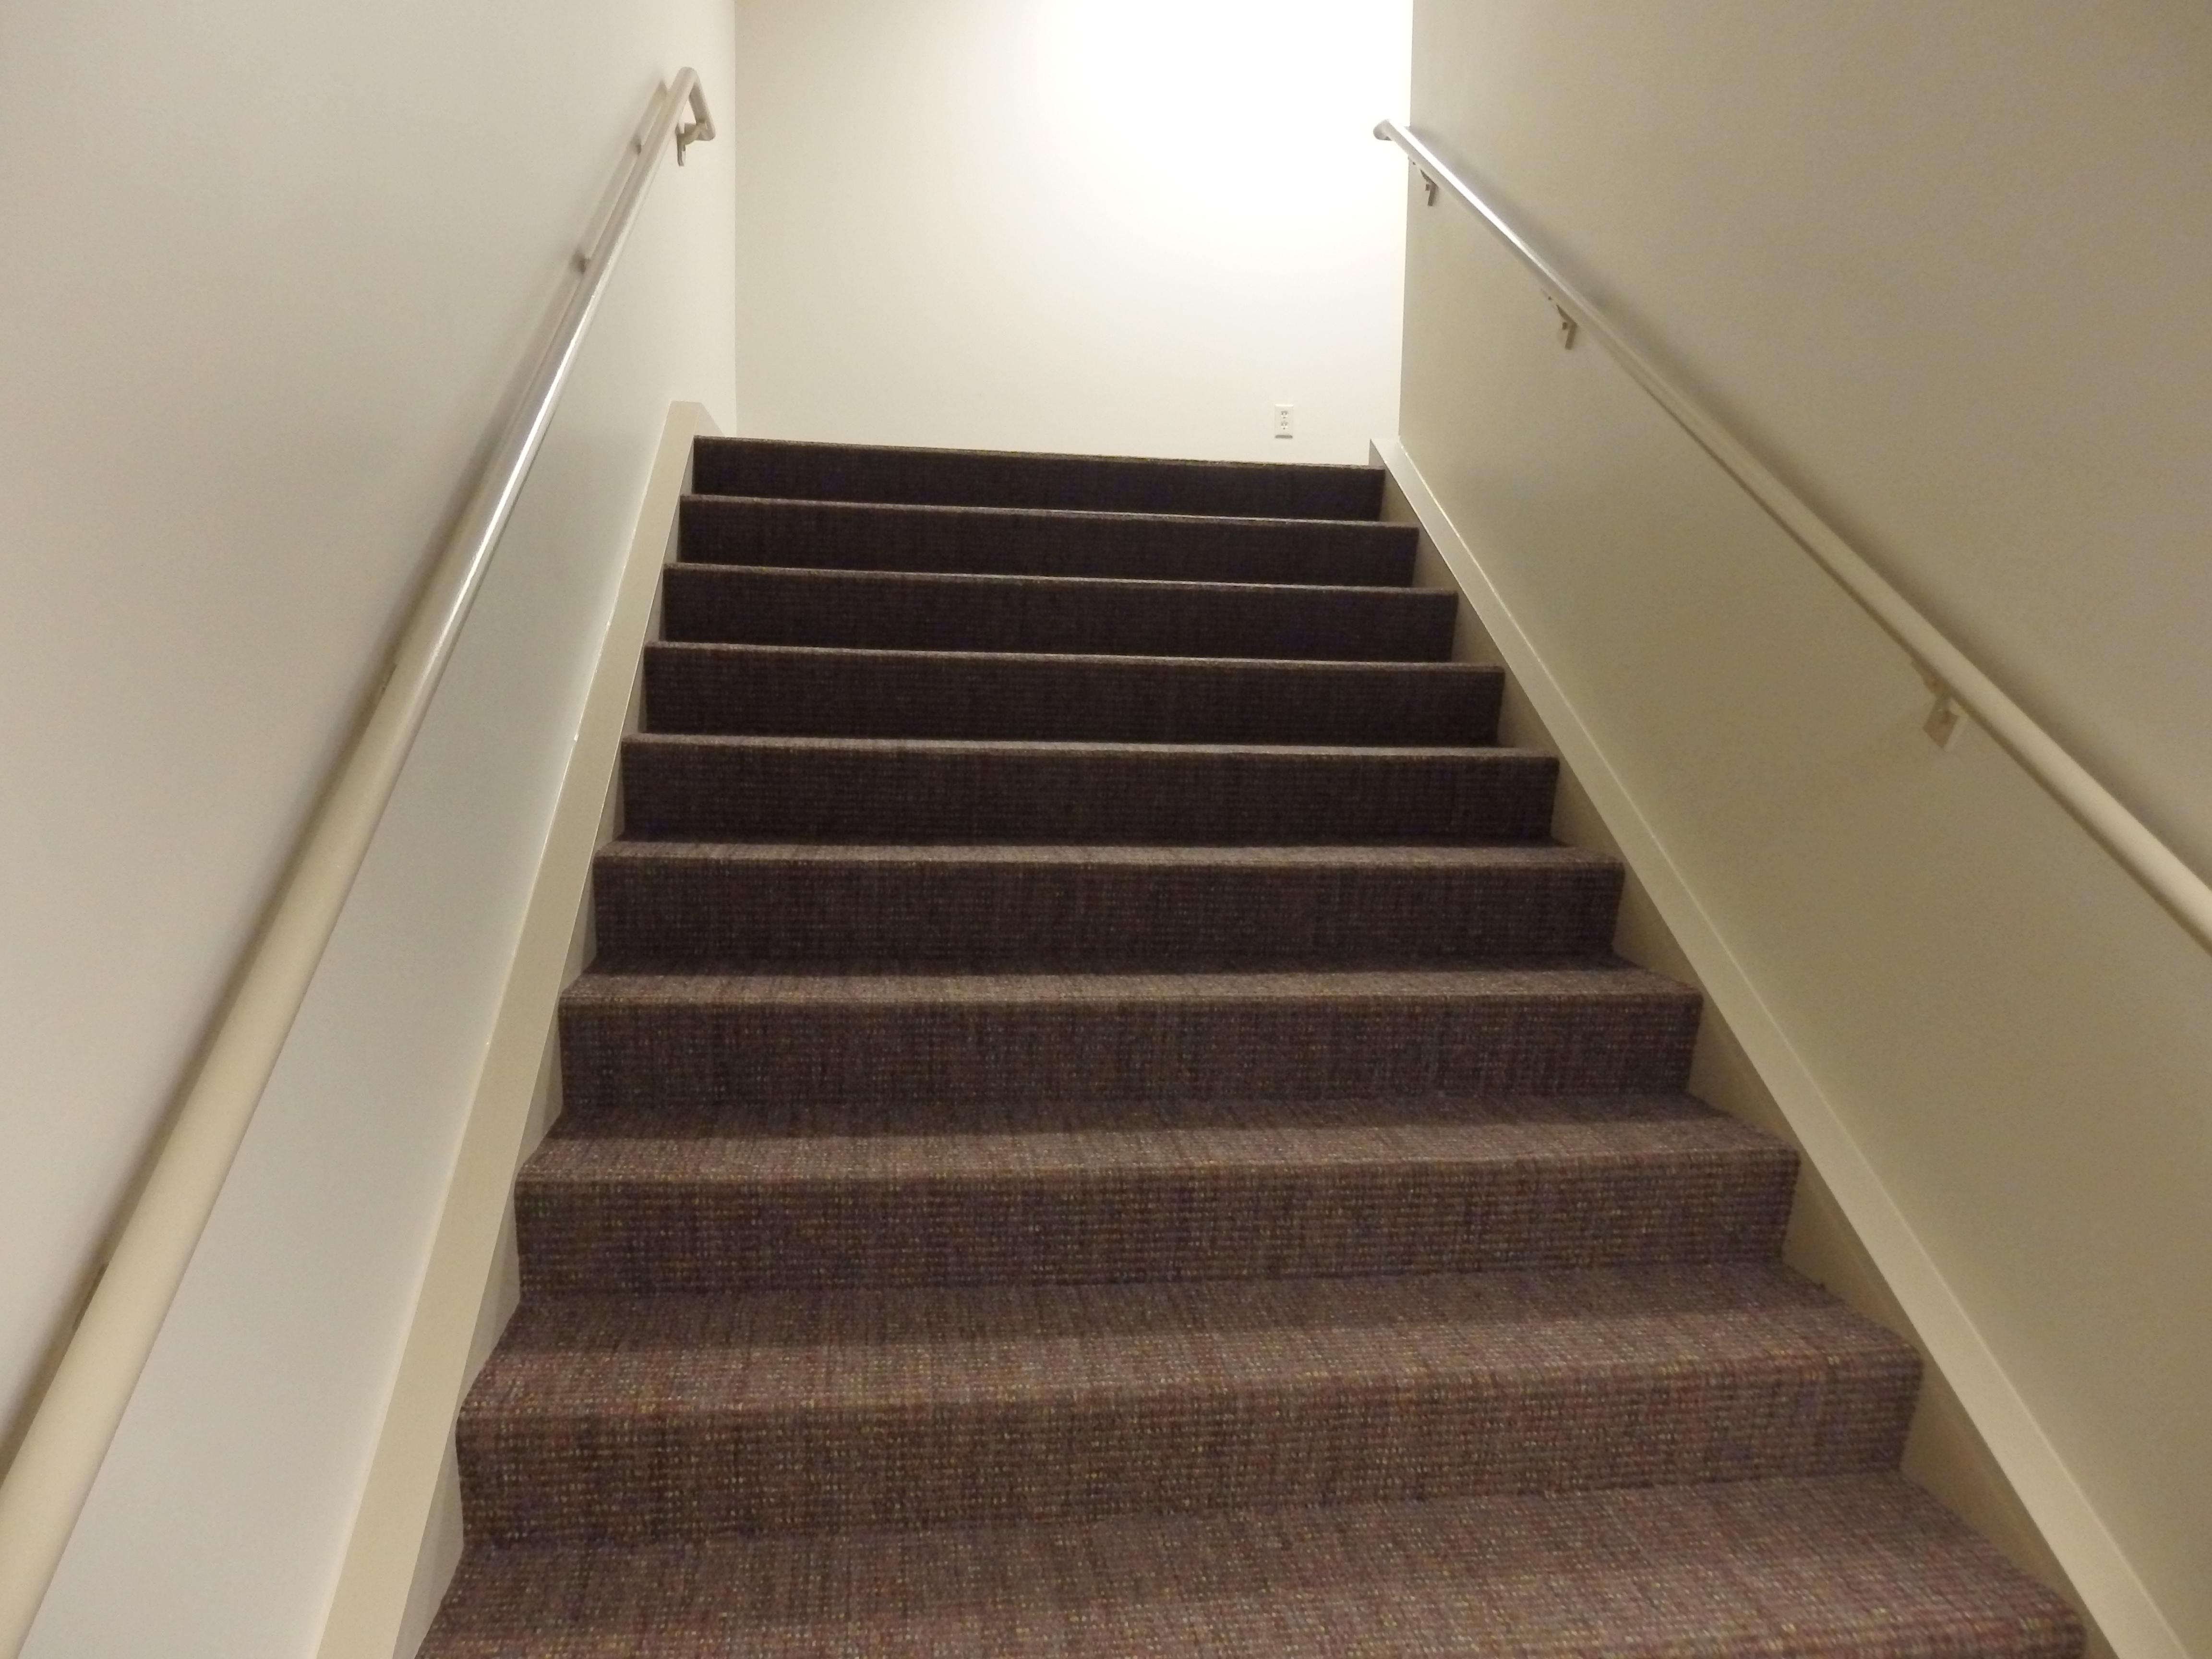stairs_up: (500, 314, 1907, 1629)
